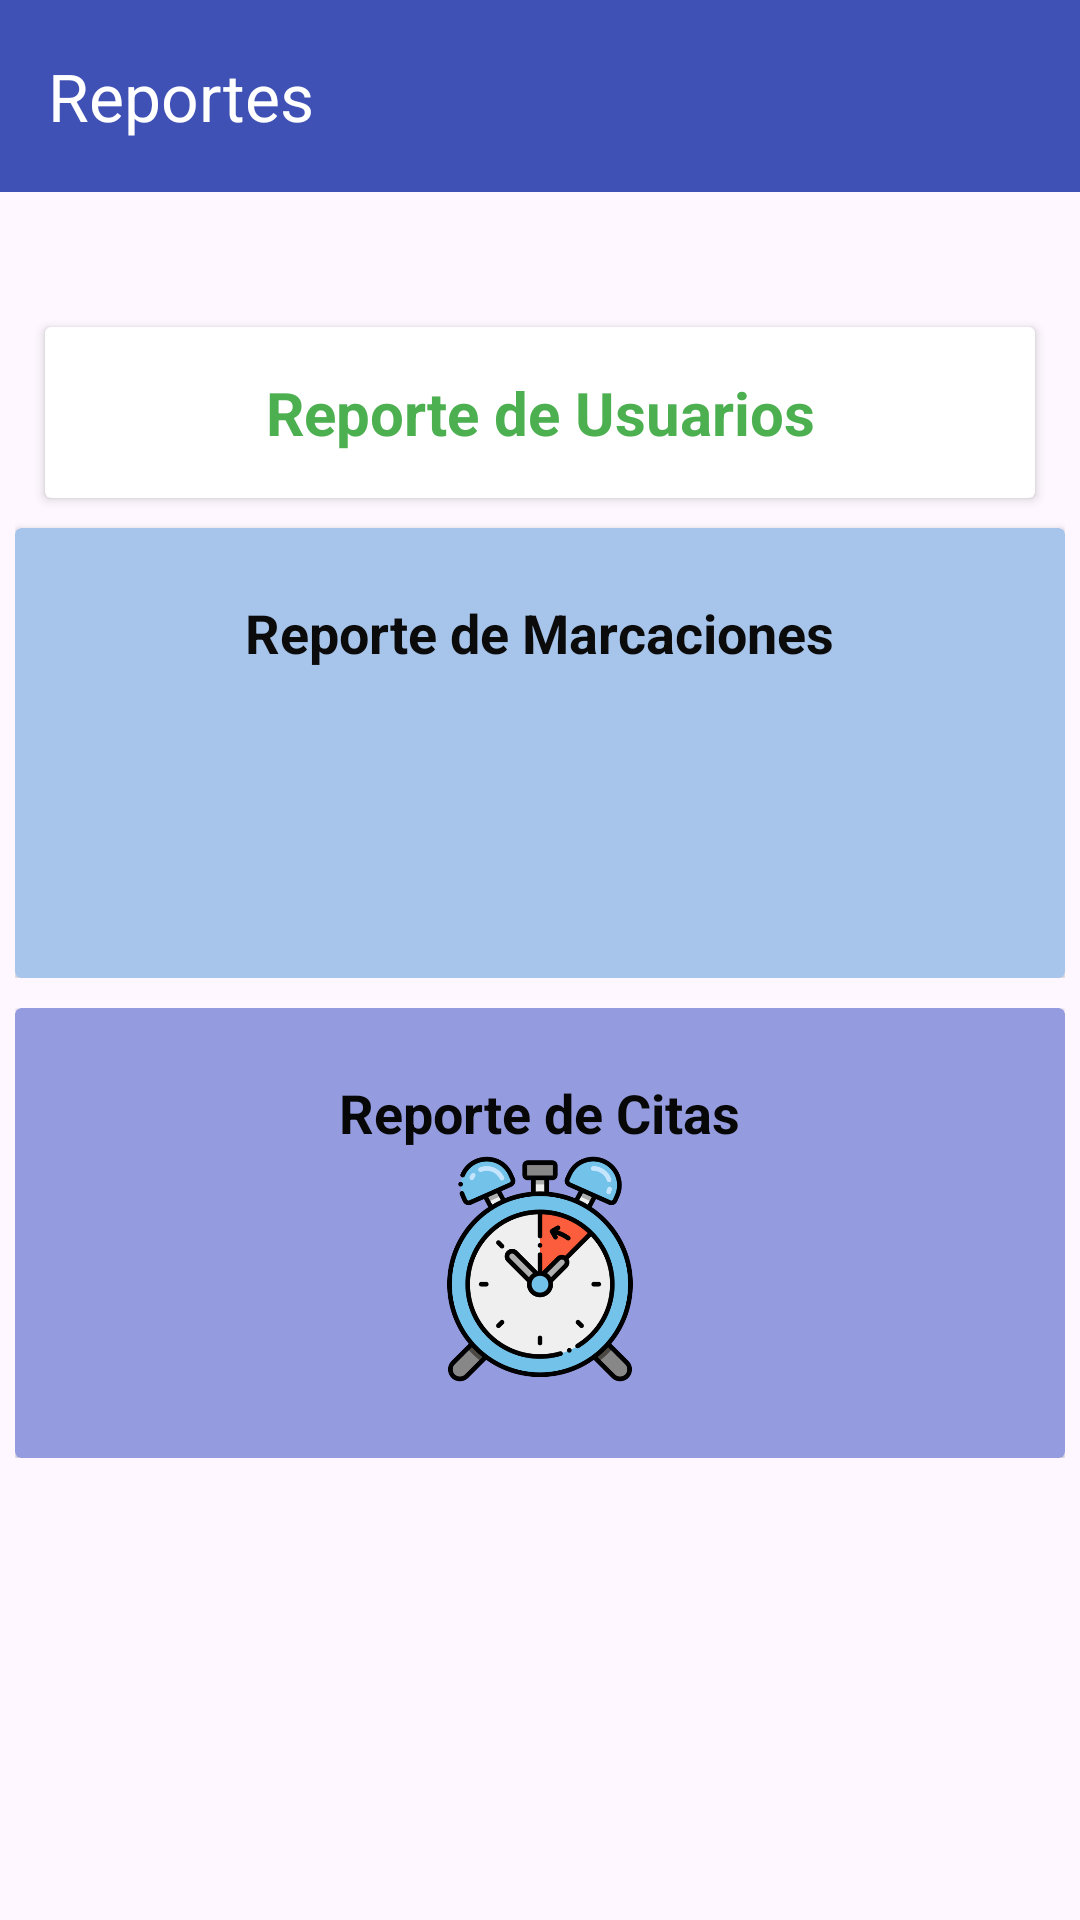

Screen size 1080px×1920px. Icon name, then its center in pixels as [x,y]:
horario: [540,1269]
